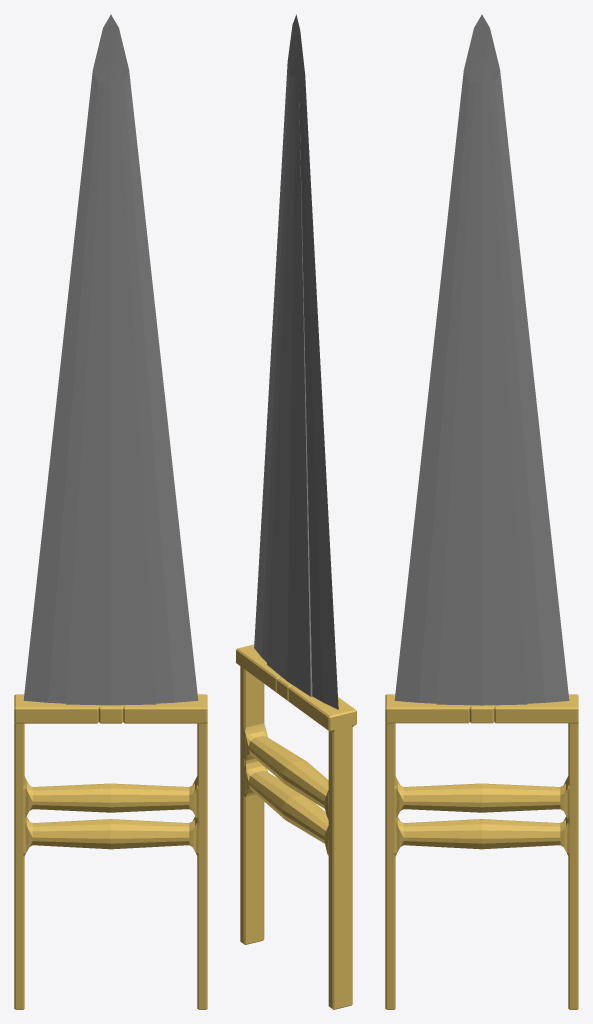
The model's file is w_katar.glb.
The picture shows the model from 3 angles, left to right: view 1: azimuth 90°, elevation 25°; view 2: azimuth 210°, elevation 25°; view 3: azimuth 270°, elevation 25°; orthographic projection. The views are drawn at different scales.
Parts seen in each view (by area): view 1: blade, handle; view 2: blade, handle; view 3: blade, handle.
Part boxes in pixels (box(x1,y1,x2,y2)): blade: box(23, 14, 198, 705); handle: box(14, 694, 207, 1009); blade: box(254, 14, 338, 709); handle: box(236, 644, 356, 1009); blade: box(394, 14, 569, 705); handle: box(385, 694, 578, 1009).
Bounding box in the file's own units: 0.0247 × 0.7939 × 0.1405.
